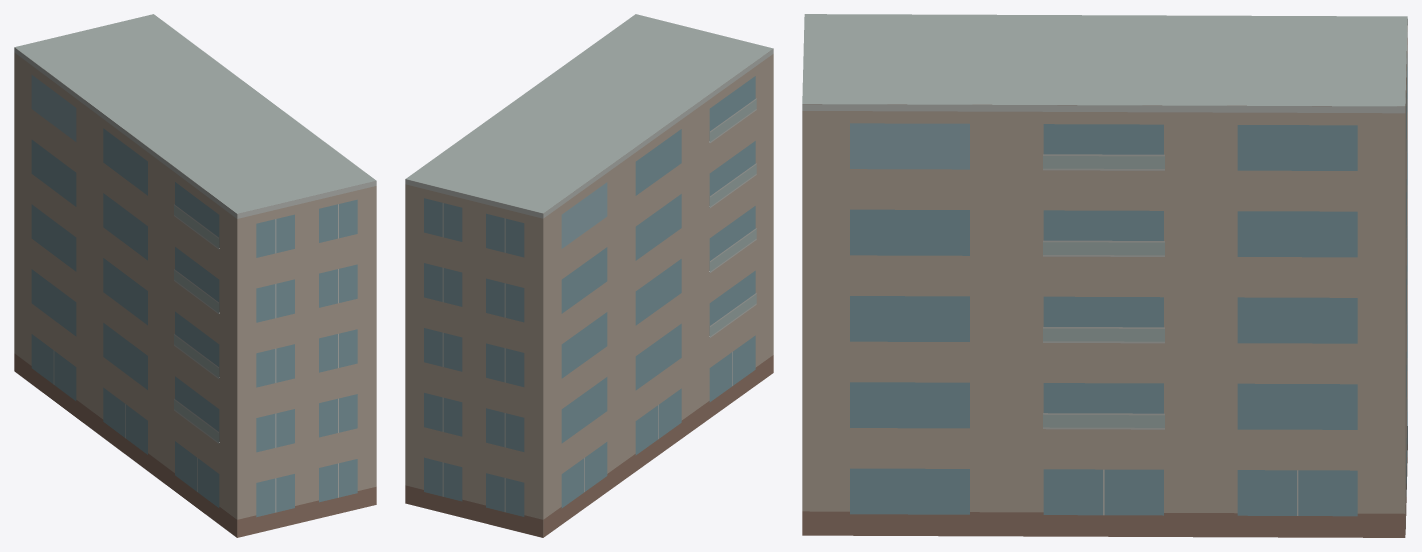
File: survey-upis-32545199.glb
3 views of the same model, side by side, from view 1: azimuth 30°, elevation 25°; view 2: azimuth 150°, elevation 25°; view 3: azimuth 270°, elevation 25° (orthographic). The views are drawn at different scales.
Parts seen in each view (by area): view 1: survey-upis-32545199.tmp; view 2: survey-upis-32545199.tmp; view 3: survey-upis-32545199.tmp.
Boxes of the visible parts, x1,y1,x2,y2 form: survey-upis-32545199.tmp: (14,14,376,537); survey-upis-32545199.tmp: (405,14,773,537); survey-upis-32545199.tmp: (802,14,1407,537).
Bounding box in the file's own units: 7.1 × 15.4 × 19.6.
